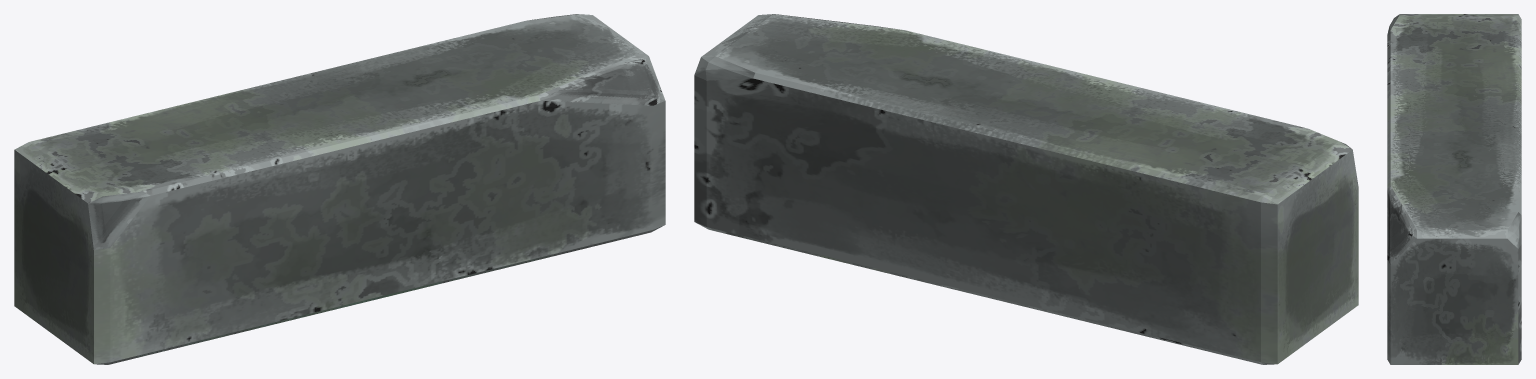
Rendered from roadcube01.fbx.
3 views of the same model, side by side, from view 1: azimuth 30°, elevation 25°; view 2: azimuth 150°, elevation 25°; view 3: azimuth 270°, elevation 25° (orthographic). The views are drawn at different scales.
Parts seen in each view (by area): view 1: roadcube01; view 2: roadcube01; view 3: roadcube01.
Boxes of the visible parts, x1,y1,x2,y2 form: roadcube01: (14,14,665,364); roadcube01: (694,14,1358,364); roadcube01: (1387,14,1521,364).
Bounding box in the file's own units: 608 × 167 × 154.
